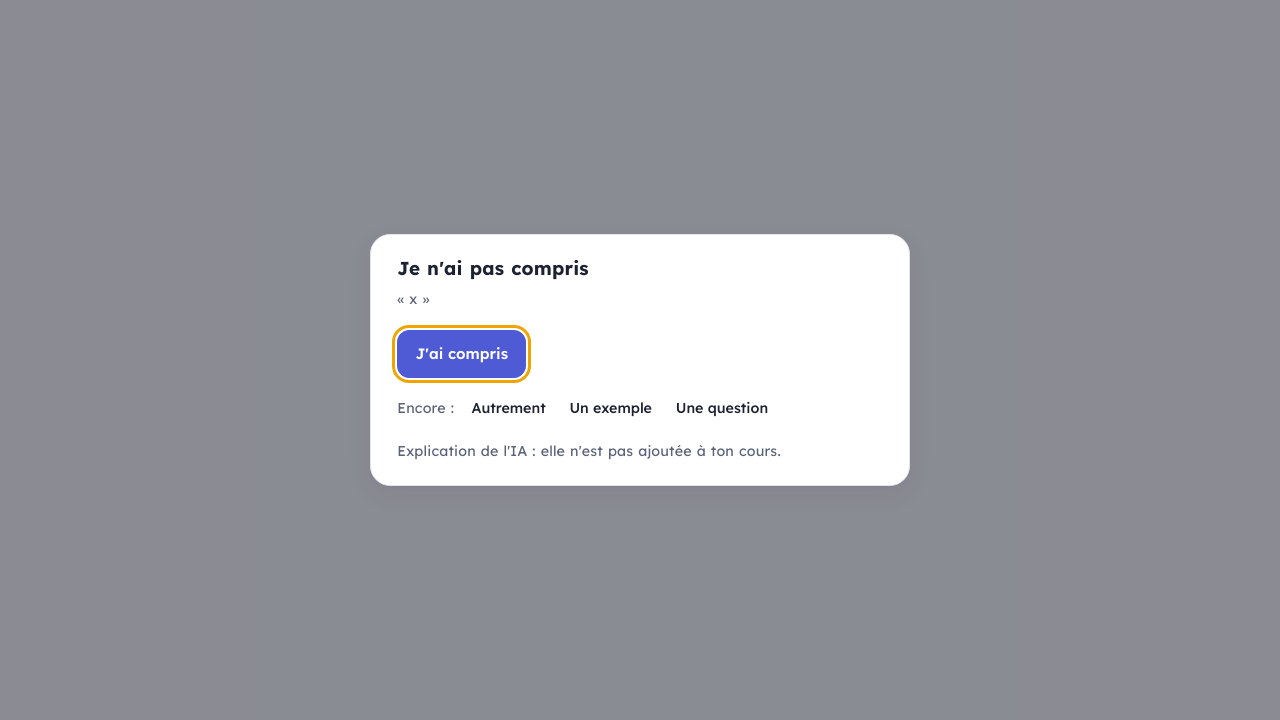
Test: ExplainPanel › affiche les erreurs
Click the button "Autrement" at (509, 409), box [462,389,556,429]
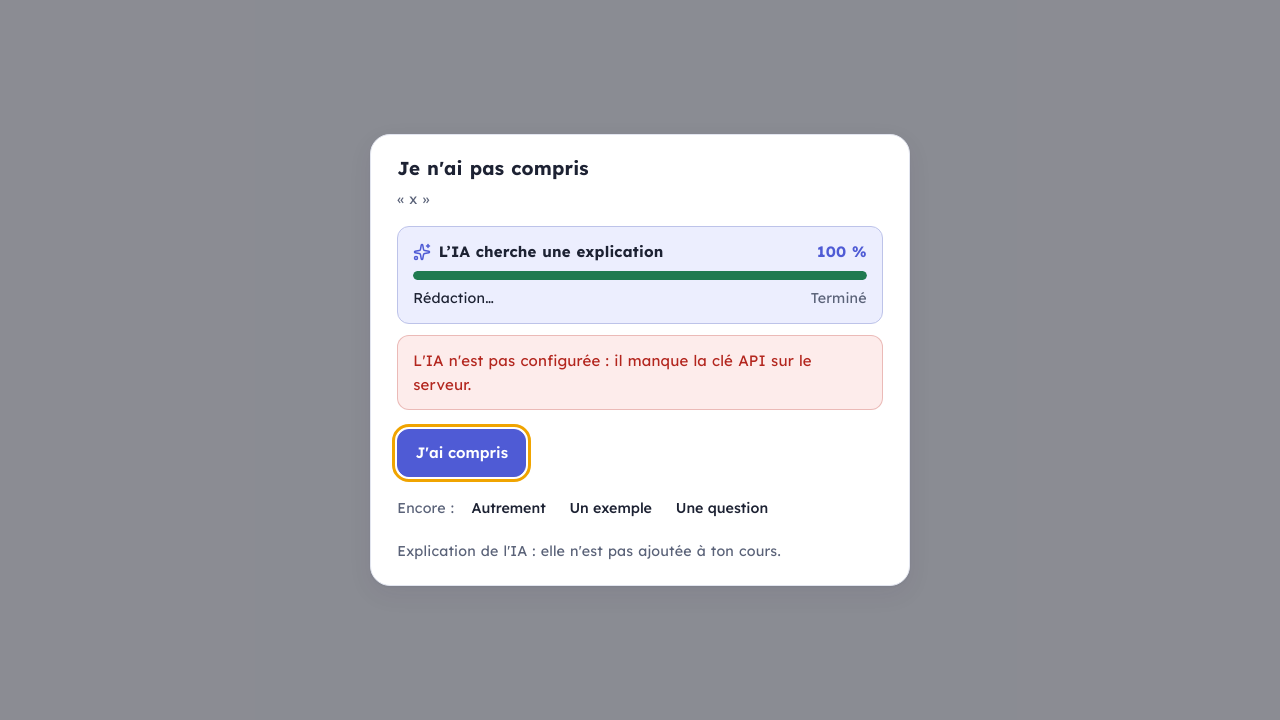
Check: the message "L'IA n'est pas configurée : il manque la clé API sur le serveur." is shown, box [397,335,883,410]
